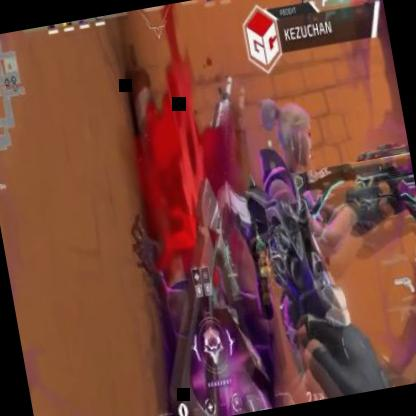enemy: (250, 84, 396, 402)
enemy_head: (259, 93, 317, 172)
